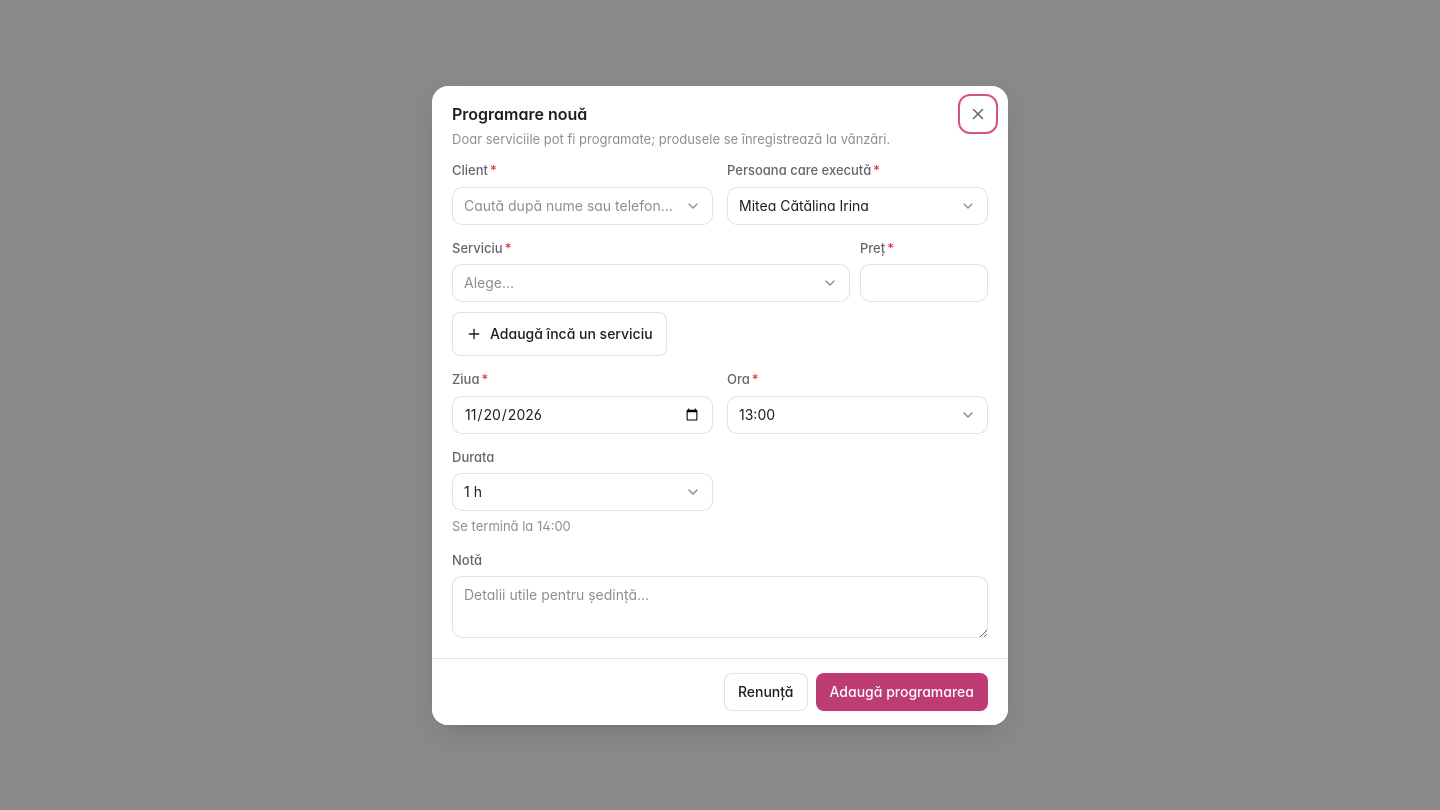
client nou din formularul de programare › nu creează nimic cât timp nu s-a tastat un nume
Click the dropdown named "Client": click(582, 206) [452, 186, 713, 224]
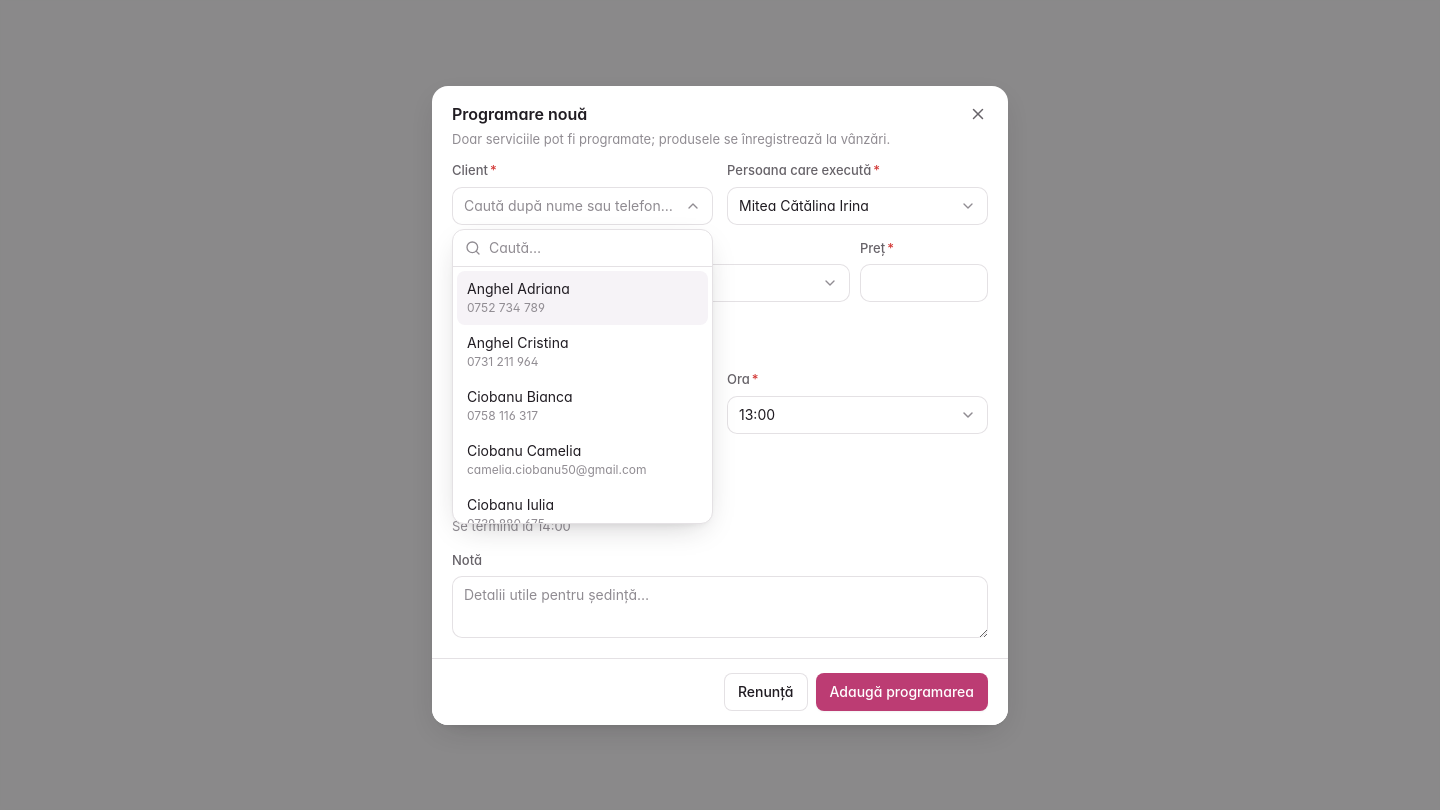
Expected: the field named "Caută în listă" is shown, [489, 230, 700, 266]
